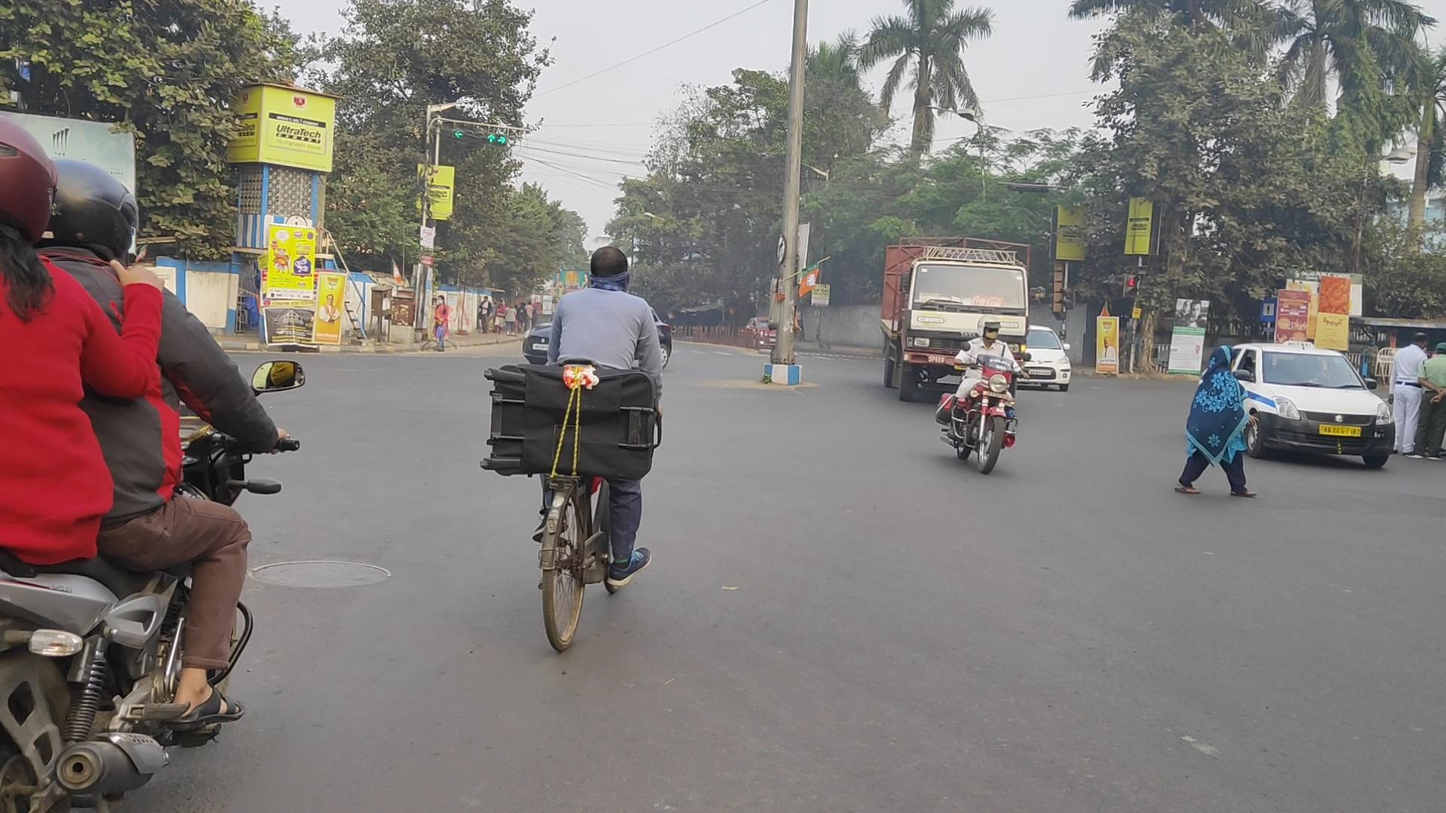bike: (3, 118, 306, 813), (483, 246, 664, 653), (935, 315, 1031, 476)
car: (1225, 340, 1396, 470), (521, 297, 672, 373), (1024, 323, 1072, 394)
truck: (880, 235, 1030, 404)
